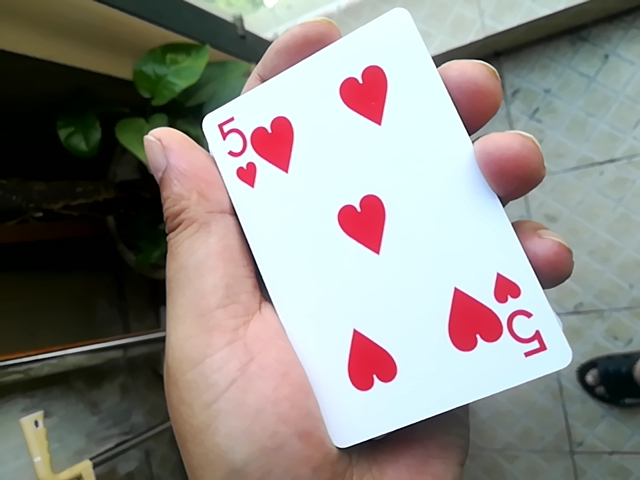hx 5: (199, 12, 567, 454)
